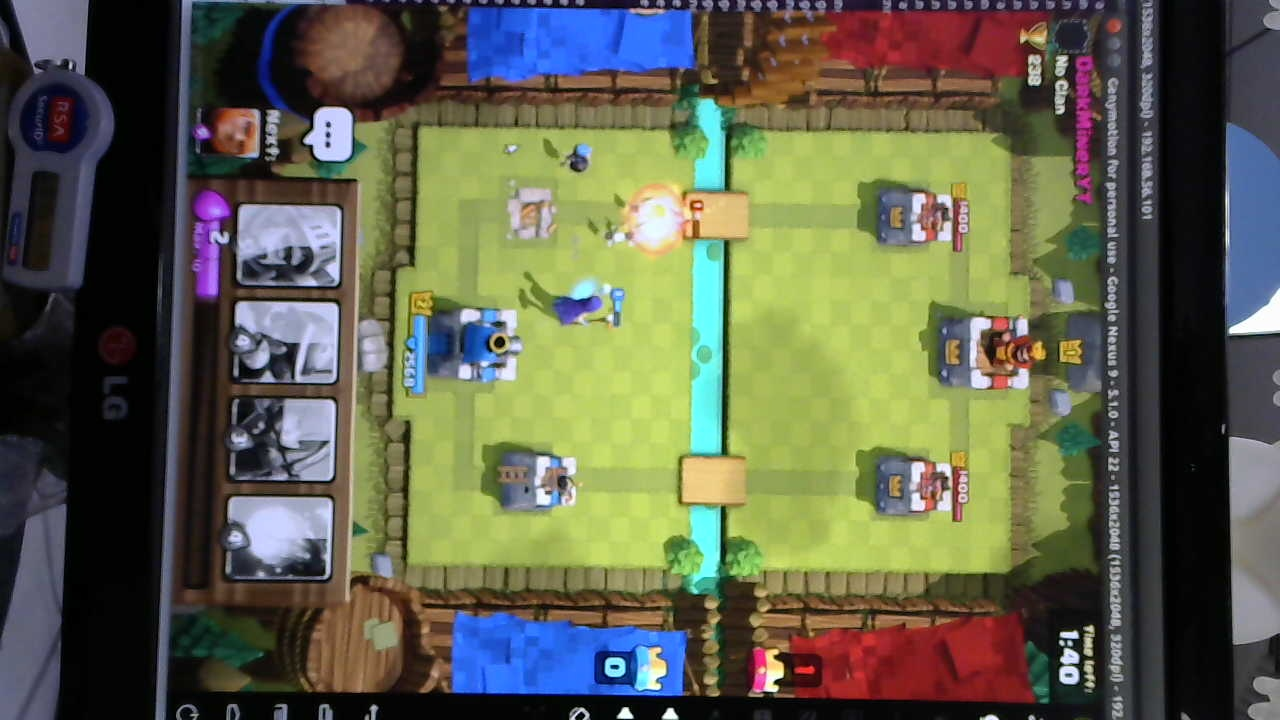arena: (499, 448, 580, 511)
bomb: (557, 137, 599, 176)
darena: (509, 181, 559, 248)
earena: (877, 457, 952, 519), (873, 188, 950, 247)
eking: (940, 318, 1043, 396)
king: (430, 305, 522, 387)
witch: (543, 291, 626, 328)
